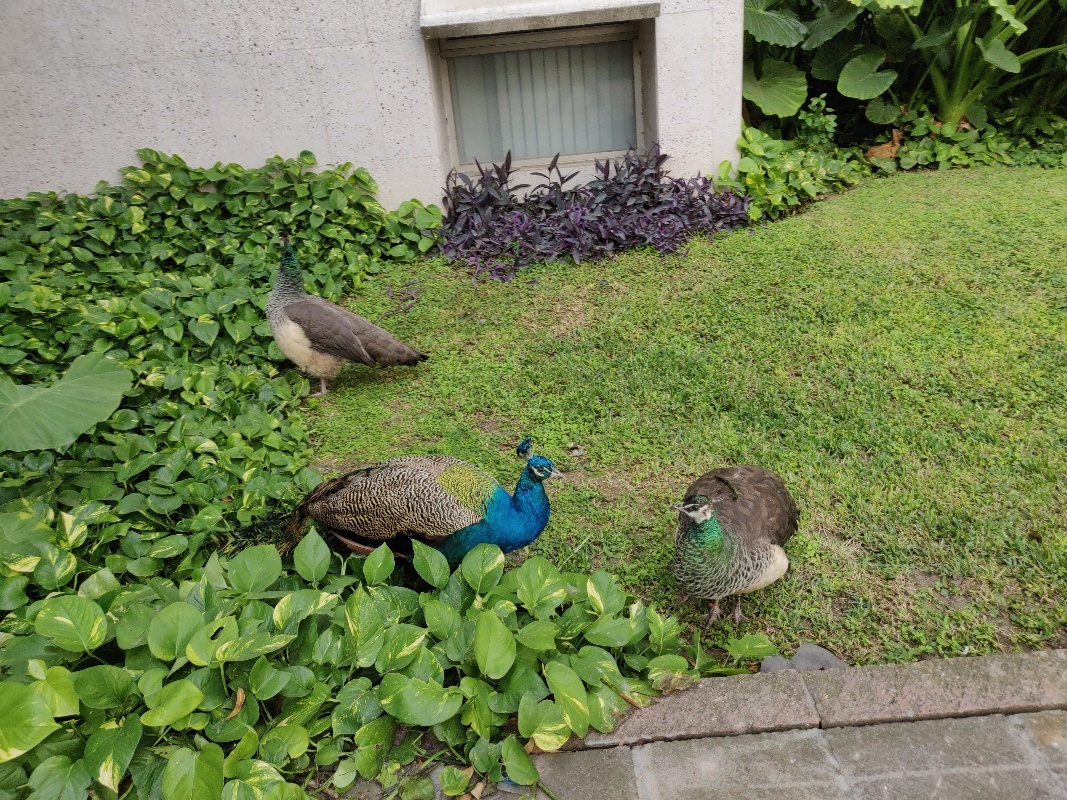pavoreal: (322, 441, 576, 550), (268, 230, 424, 390), (664, 463, 797, 612)
